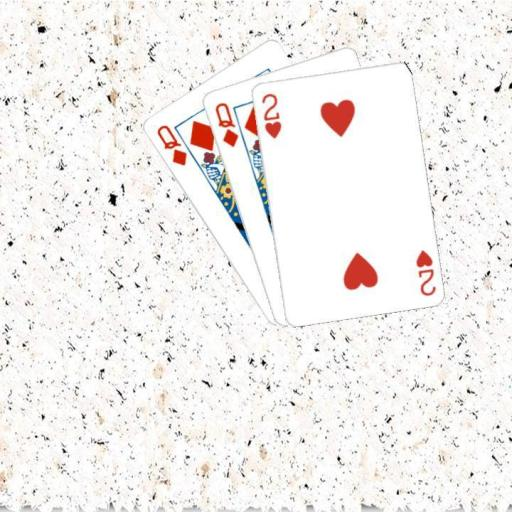card-corner: (153, 122, 188, 168), (211, 98, 240, 148), (412, 246, 436, 297), (258, 90, 282, 140)
